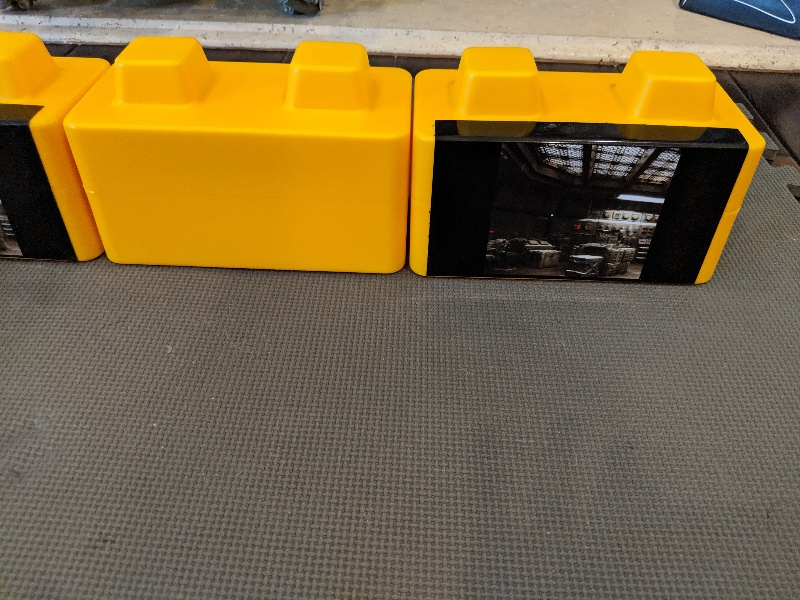Skystone: (423, 110, 751, 288)
